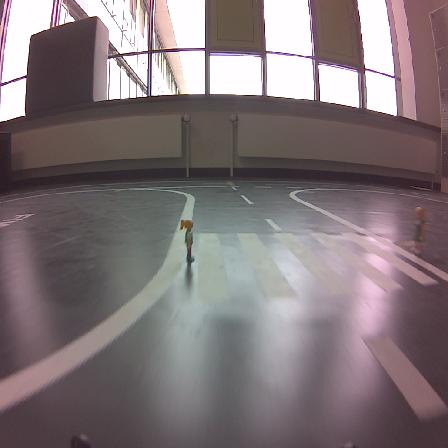CHILD: (180, 220, 193, 262)
PERSON: (411, 207, 425, 254)
